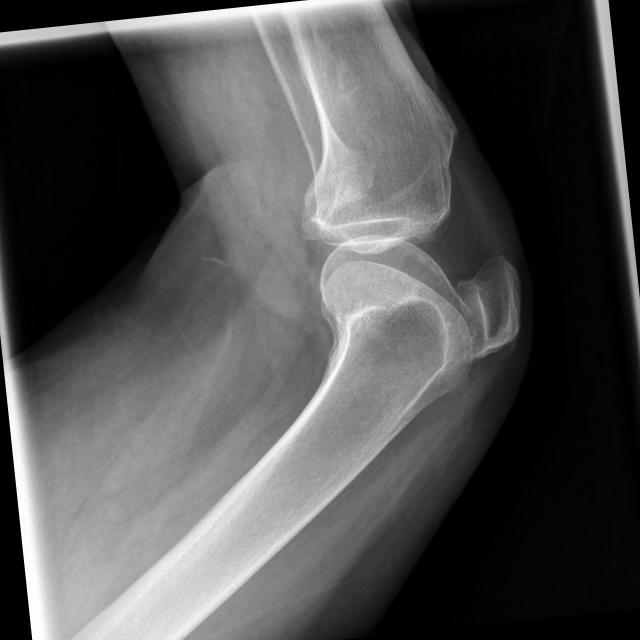Knee: (294, 140, 534, 402)
